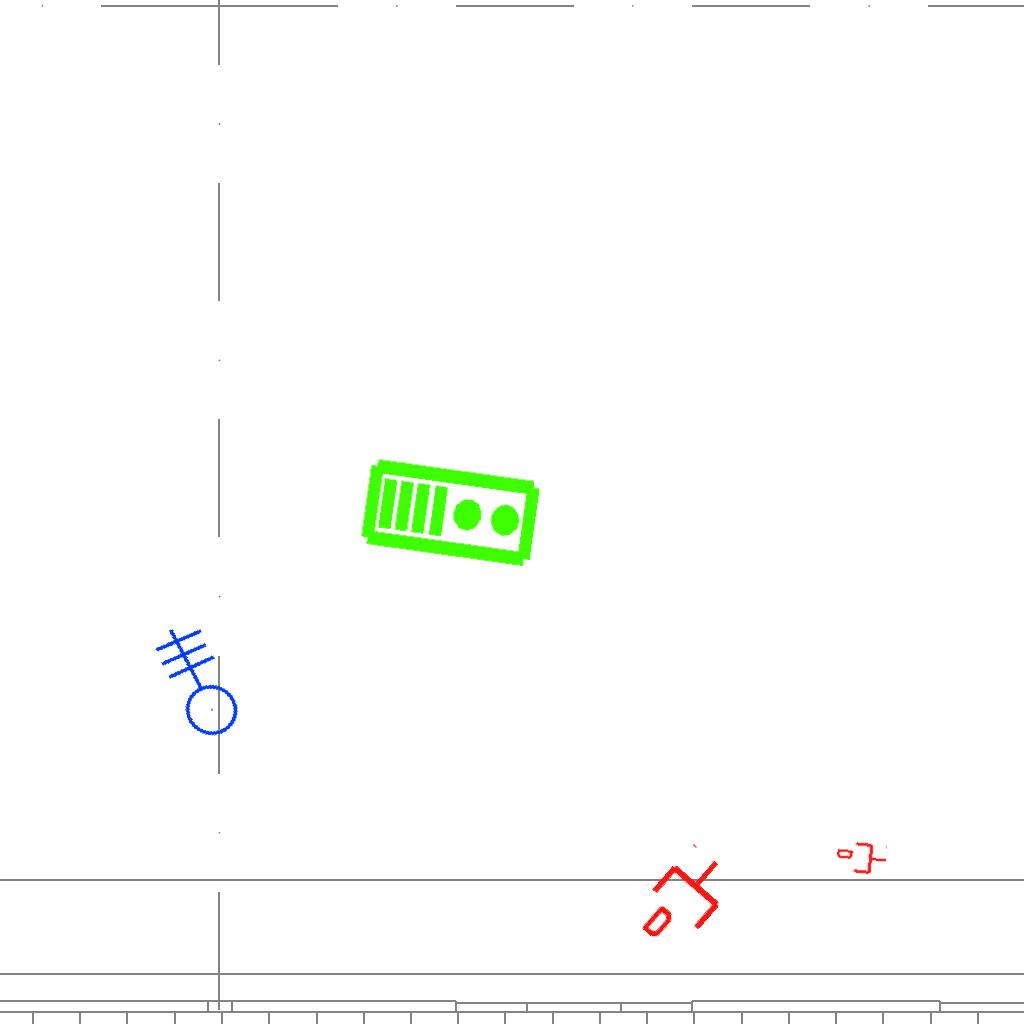Datenanschluss_einfach: (625, 838, 744, 960), (835, 838, 889, 878)
Elektroanschluss_allgemein_400V_Geraeteanschlussdose_400V: (116, 612, 262, 759)
Gegensprechanlage_mit_Video: (357, 451, 546, 571)
